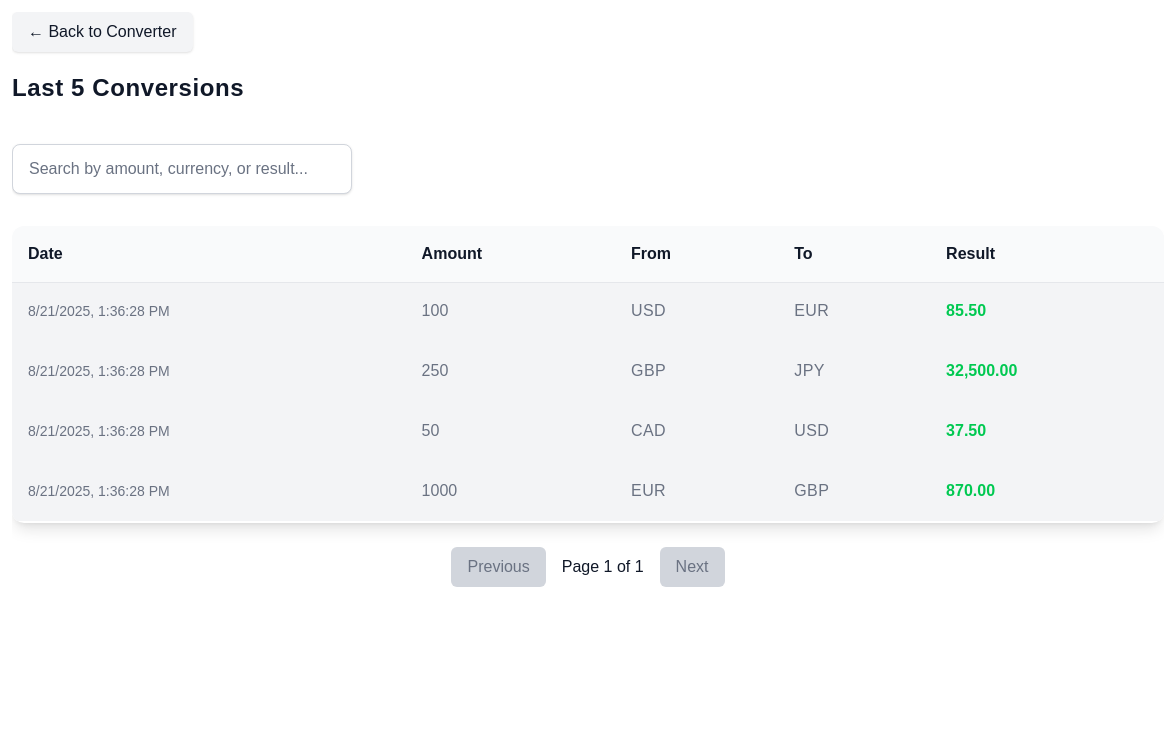
Test: TransactionHistory › search is case insensitive for currencies
Note: Search for lowercase "usd"
In the field with placeholder "Search by amount, currency, or result...": (182, 169) top-left (12, 144), bottom-right (352, 194), type "usd"
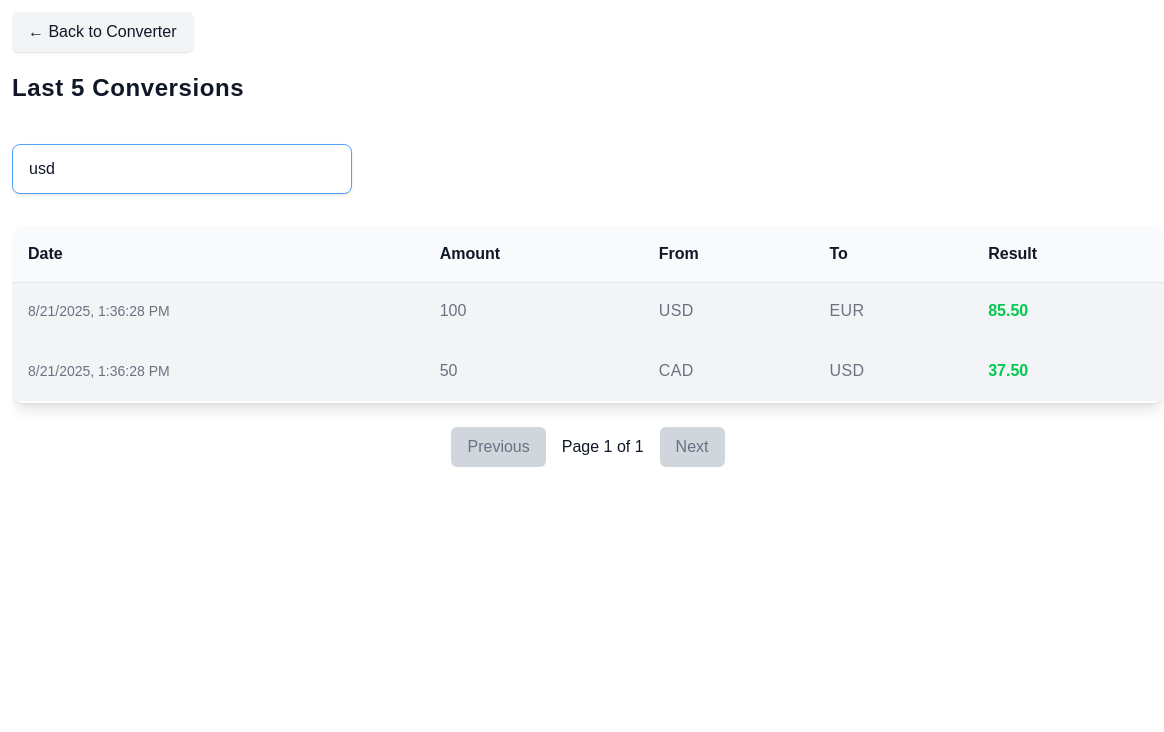
Expected: the text "USD" is shown 2 times, top-left (643, 282), bottom-right (814, 341); top-left (813, 341), bottom-right (972, 401)
